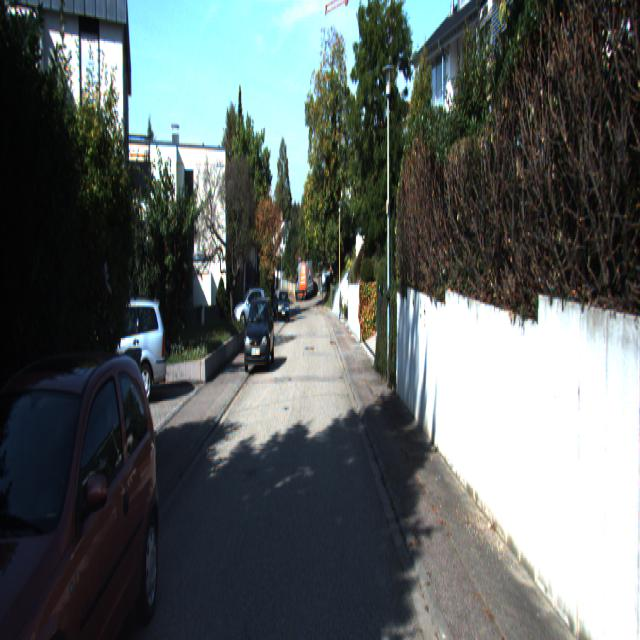Car: (0, 343, 163, 638), (58, 296, 168, 416), (243, 295, 276, 372), (233, 288, 268, 328)
